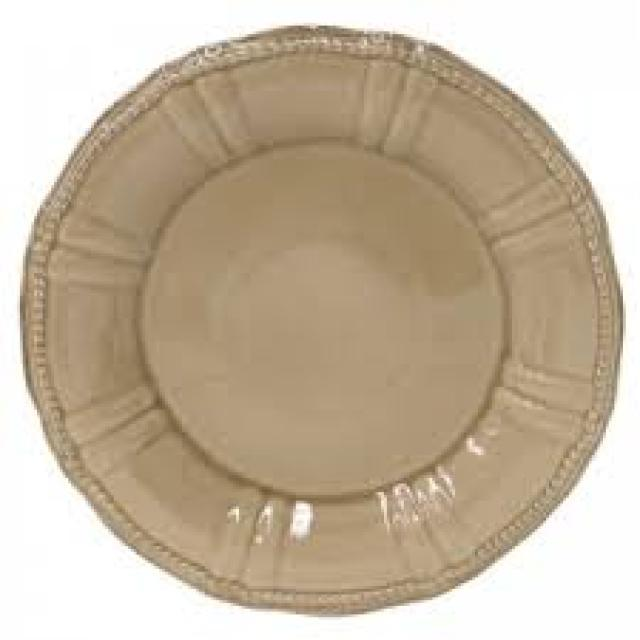Glass: (20, 22, 622, 616)
